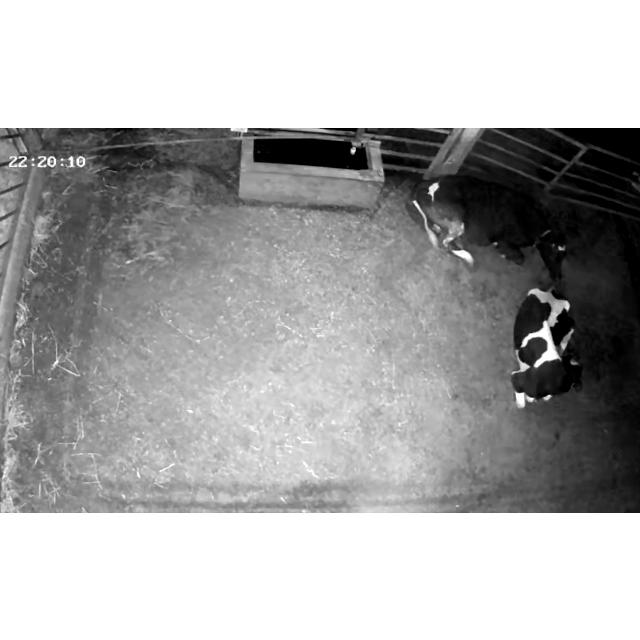lay: (402, 165, 584, 285), (501, 283, 589, 421)
